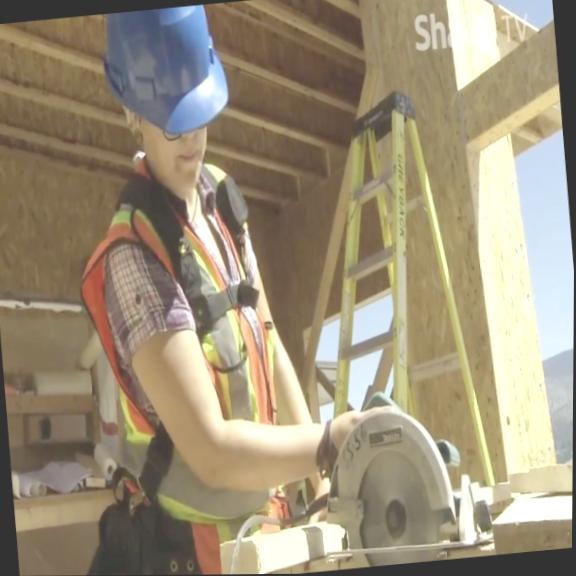safety_vest: (64, 145, 294, 575)
